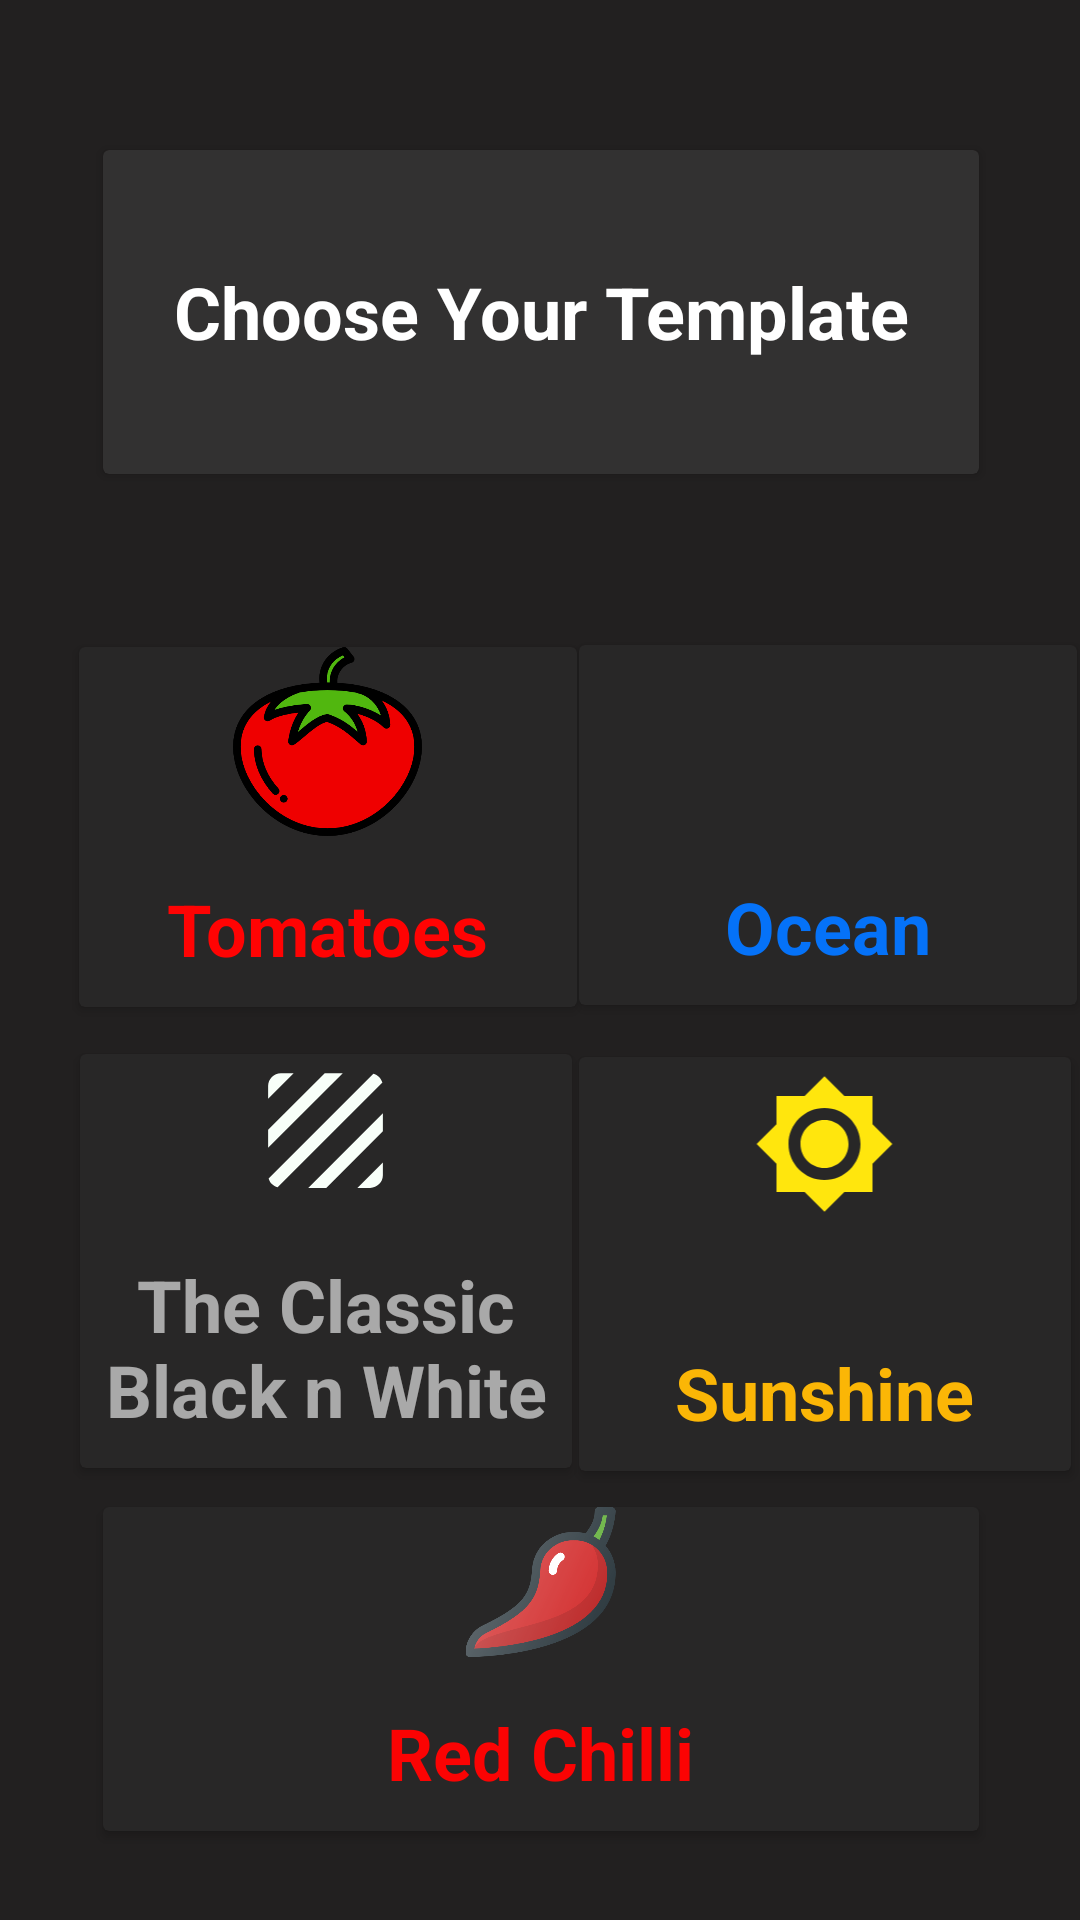

Named icons in this screenshot (1080 x 1920) and their centers, point (x, y):
brightness: point (824, 1144)
texture: point (325, 1130)
